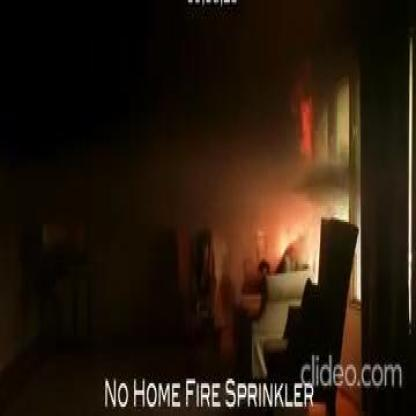fire: (273, 212, 311, 262), (299, 94, 313, 164)
